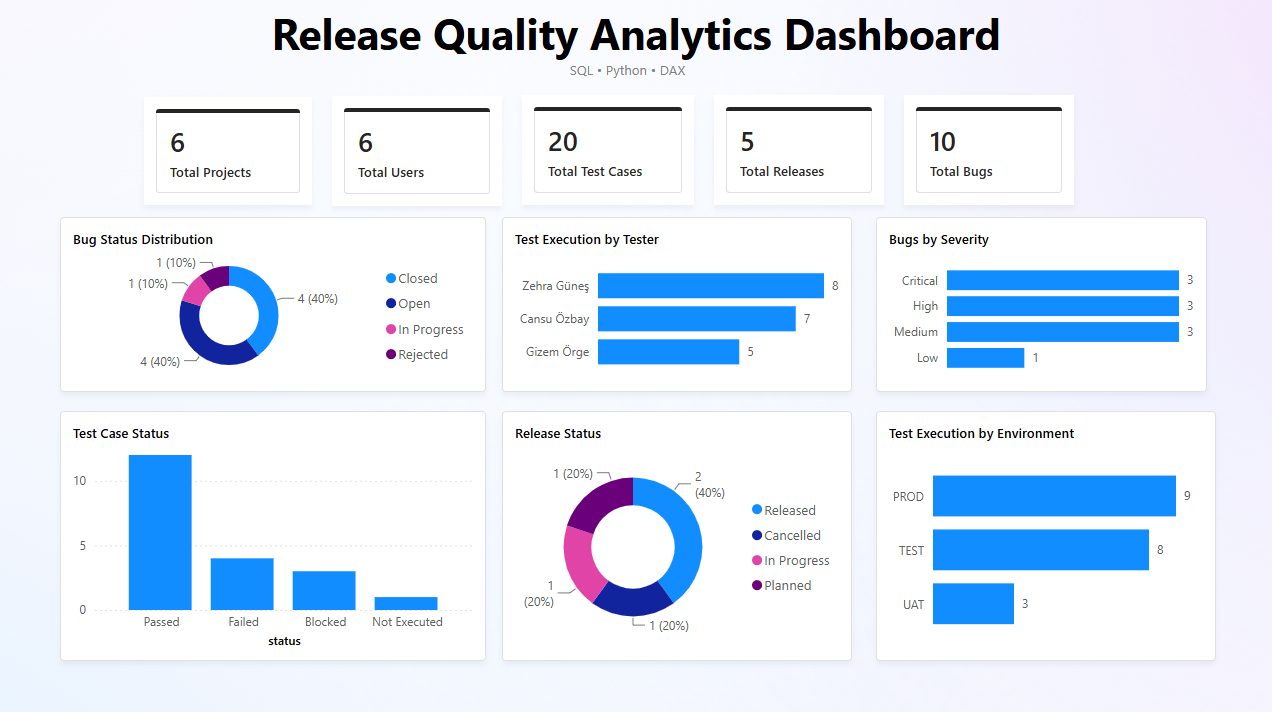

Layout of this report page (visuals, bound fields, positions):
{"tool":"powerbi","page":{"name":"Release Quality Analytics Dashboard","canvas":[1280,720],"ordinal":0},"visuals":[{"type":"cardVisual","fields":{"Data":["TestCases.Measure 2"]},"box":[526.2,95.5,171.2,110],"z":0},{"type":"cardVisual","fields":{"Data":["Bugs.Total Bugs"]},"box":[907.5,95.5,170,110],"z":1000},{"type":"cardVisual","fields":{"Data":["Releases.Total Releases"]},"box":[717.5,95.5,170,110],"z":2000},{"type":"cardVisual","fields":{"Data":["Users.Total Users"]},"box":[336.2,96.8,170,110],"z":3000},{"type":"donutChart","title":"Bug Status Distribution","fields":{"Category":["Bugs.status"],"Y":["CountNonNull(Bugs.bug_id)"]},"box":[64,218,426,175],"z":4000},{"type":"clusteredColumnChart","title":"Test Case Status","fields":{"Category":["TestCases.status"],"Y":["CountNonNull(TestCases.testcase_id)"]},"box":[64,412,426,250],"z":5000},{"type":"barChart","title":"Bugs by Severity","fields":{"Category":["Bugs.severity"],"Y":["Bugs.Total Bugs"]},"box":[880,218,331,175],"z":6000},{"type":"barChart","title":"Test Execution by Tester","fields":{"Category":["Users.full_name"],"Y":["TestCases.Total Test Cases"]},"box":[506,218,350,175],"z":7000},{"type":"textbox","box":[114.8,0,1050.4,73.4],"z":8000},{"type":"textbox","box":[544,57,175,32],"z":9000},{"type":"donutChart","title":"Release Status","fields":{"Category":["Releases.status"],"Y":["CountNonNull(Releases.status)"]},"box":[506,412,350,250],"z":10000},{"type":"barChart","title":"Test Execution by Environment","fields":{"Category":["Releases.environment"],"Y":["TestCases.Total Test Cases"]},"box":[880,412,340,250],"z":11000},{"type":"cardVisual","fields":{"Data":["CountNonNull(Projects.project_id)"]},"box":[147.5,98,168.8,107.5],"z":12000}]}

Visuals, with their boxes in screenshot pixels (x1, y1, x2, y2), scaled from the page's 1280x720 canvas onto the 1272x712 screenshot:
cardVisual - TestCases.Measure 2: {"left": 523, "top": 94, "right": 693, "bottom": 203}
cardVisual - Bugs.Total Bugs: {"left": 902, "top": 94, "right": 1071, "bottom": 203}
cardVisual - Releases.Total Releases: {"left": 713, "top": 94, "right": 882, "bottom": 203}
cardVisual - Users.Total Users: {"left": 334, "top": 96, "right": 503, "bottom": 205}
"Bug Status Distribution" donutChart: {"left": 64, "top": 216, "right": 487, "bottom": 389}
"Test Case Status" clusteredColumnChart: {"left": 64, "top": 407, "right": 487, "bottom": 655}
"Bugs by Severity" barChart: {"left": 874, "top": 216, "right": 1203, "bottom": 389}
"Test Execution by Tester" barChart: {"left": 503, "top": 216, "right": 851, "bottom": 389}
textbox: {"left": 114, "top": 0, "right": 1158, "bottom": 73}
textbox: {"left": 541, "top": 56, "right": 715, "bottom": 88}
"Release Status" donutChart: {"left": 503, "top": 407, "right": 851, "bottom": 655}
"Test Execution by Environment" barChart: {"left": 874, "top": 407, "right": 1212, "bottom": 655}
cardVisual - CountNonNull(Projects.project_id): {"left": 147, "top": 97, "right": 314, "bottom": 203}
